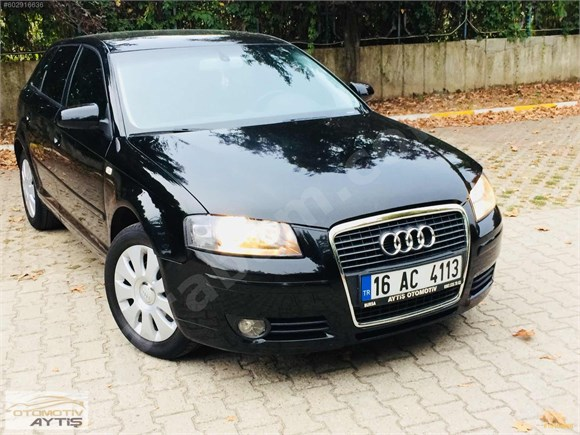audi: (375, 224, 436, 257)
